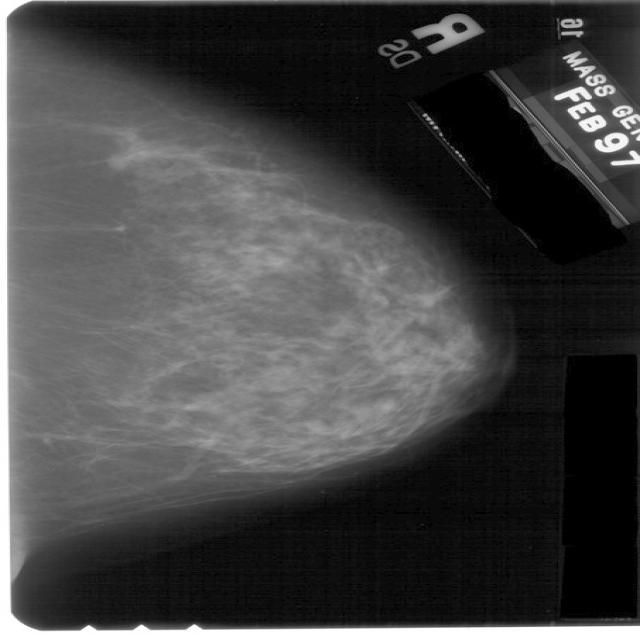tumour: (104, 127, 162, 168)
